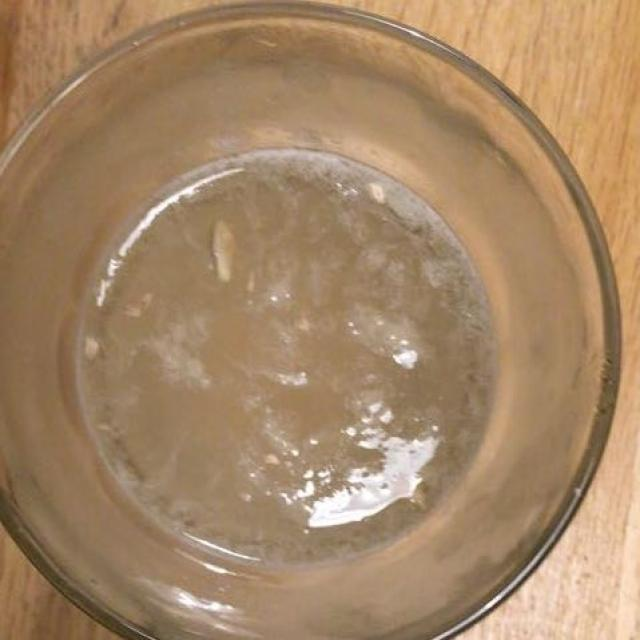drink: (86, 154, 484, 559)
